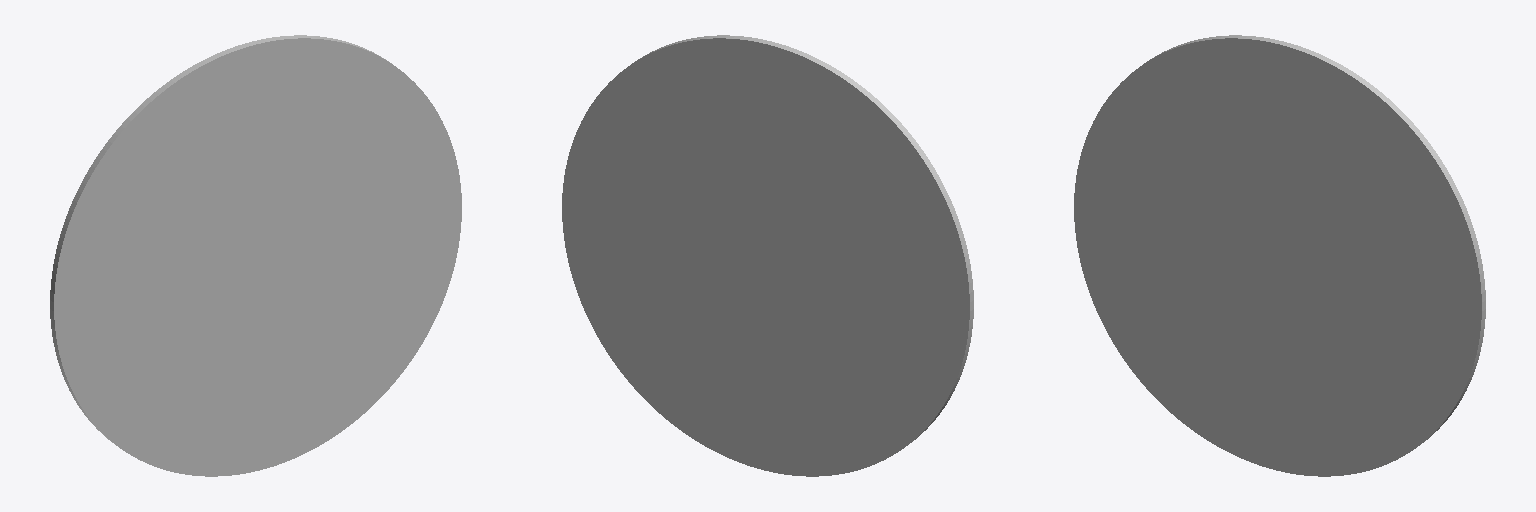
Rendered from just-a-cylinder.obj.
The picture shows the model from 3 angles: view 1: azimuth 30°, elevation 25°; view 2: azimuth 150°, elevation 25°; view 3: azimuth 330°, elevation 25°; orthographic projection.
Visible parts, largest first — view 1: Cylinder.012; view 2: Cylinder.012; view 3: Cylinder.012.
Boxes of the visible parts, <box> form: Cylinder.012: <box>50,35,461,476</box>; Cylinder.012: <box>562,35,973,476</box>; Cylinder.012: <box>1074,35,1485,476</box>.
Size of the model in its own units: 3.44 by 3.44 by 0.06.